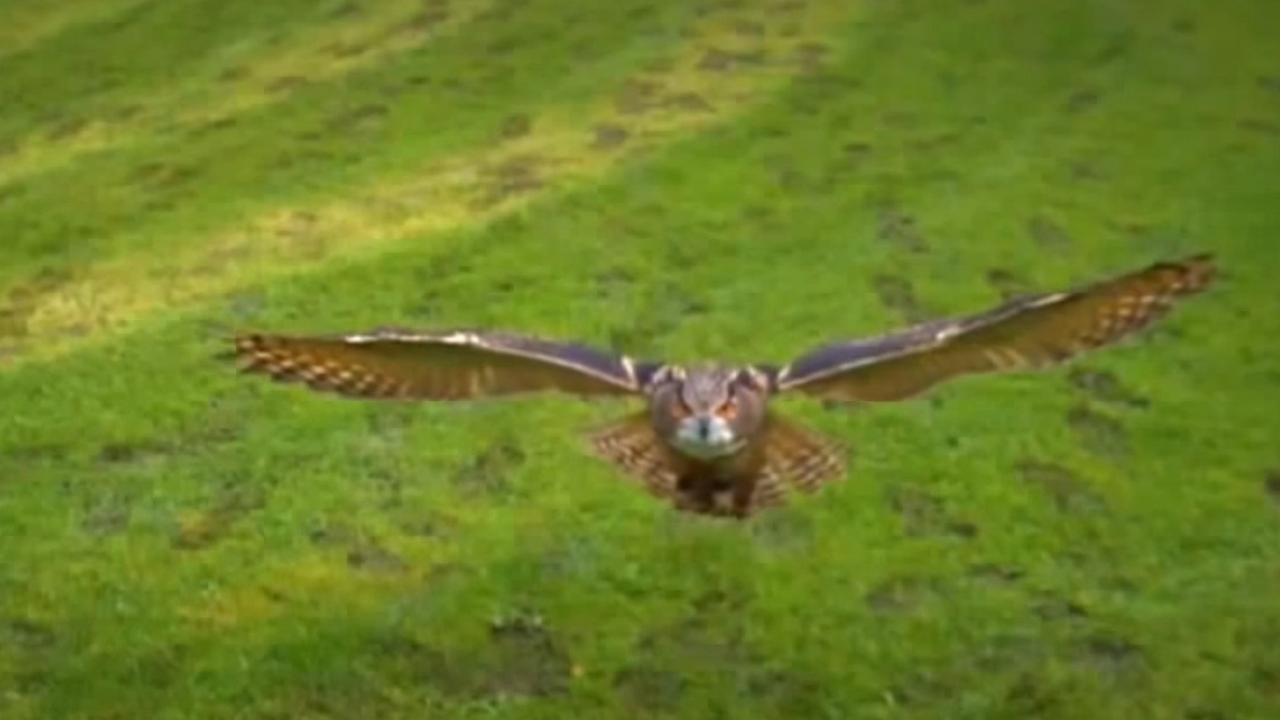Bird: (207, 242, 1236, 527)
